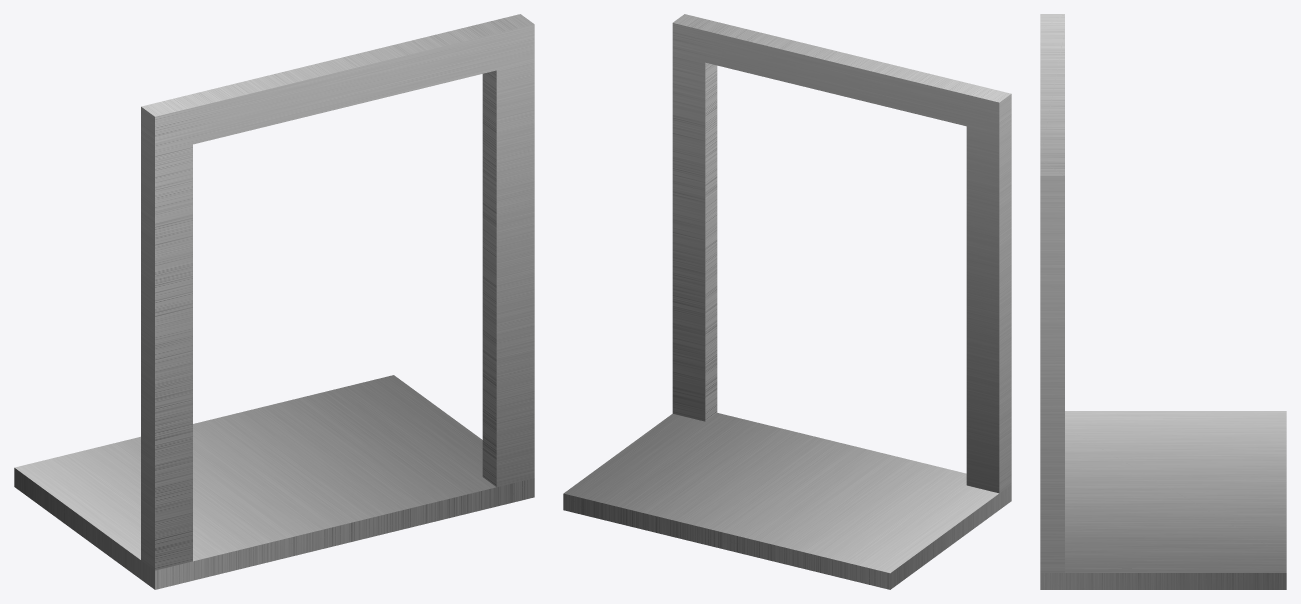
File: SM_SobaCharger_Stainless.fbx
3 views of the same model, side by side, from view 1: azimuth 30°, elevation 25°; view 2: azimuth 150°, elevation 25°; view 3: azimuth 270°, elevation 25° (orthographic). The views are drawn at different scales.
Visible parts, largest first — view 1: SM_SobaCharger1; view 2: SM_SobaCharger1; view 3: SM_SobaCharger1.
Part boxes in pixels (left/top/right/bottom): SM_SobaCharger1: left=14, top=14, right=534, bottom=589; SM_SobaCharger1: left=563, top=14, right=1011, bottom=589; SM_SobaCharger1: left=1040, top=14, right=1286, bottom=589.
Size of the model in its own units: 80.36 by 95.73 by 51.62.
